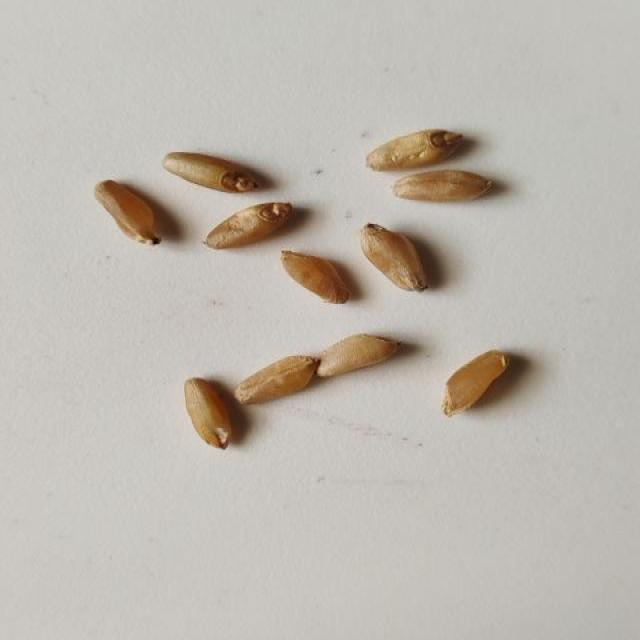wheat_grain: (359, 222, 427, 291), (92, 180, 161, 246), (441, 350, 510, 416), (235, 354, 319, 405), (205, 201, 293, 249), (365, 128, 462, 171), (162, 151, 261, 193), (279, 249, 352, 303), (315, 333, 399, 377), (184, 377, 233, 448), (392, 169, 493, 202)
